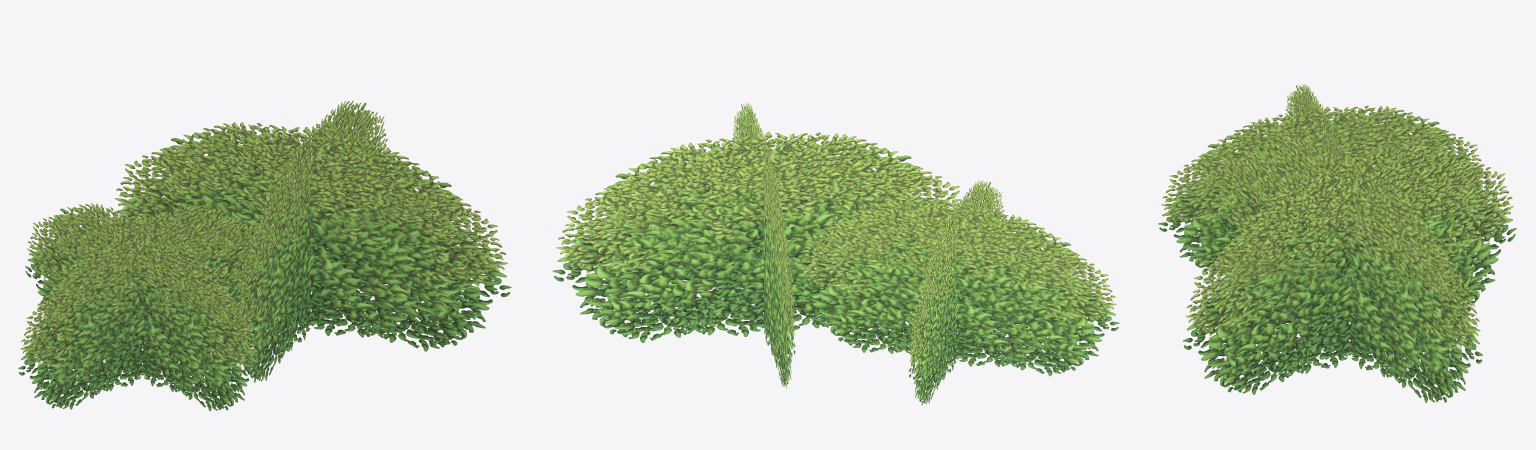
File: island bush.FBX
3 renders of one model, left to right at view 1: azimuth 30°, elevation 25°; view 2: azimuth 150°, elevation 25°; view 3: azimuth 270°, elevation 25°, orthographic.
Visible parts, largest first — view 1: island bush; view 2: island bush; view 3: island bush.
Part boxes in pixels (x1,y1,x2,y2): island bush: (18, 100, 511, 411); island bush: (552, 103, 1119, 405); island bush: (1158, 84, 1516, 402).
Size of the model in its own units: 5.56 by 2.57 by 3.72.
1 material, 1 textured.
